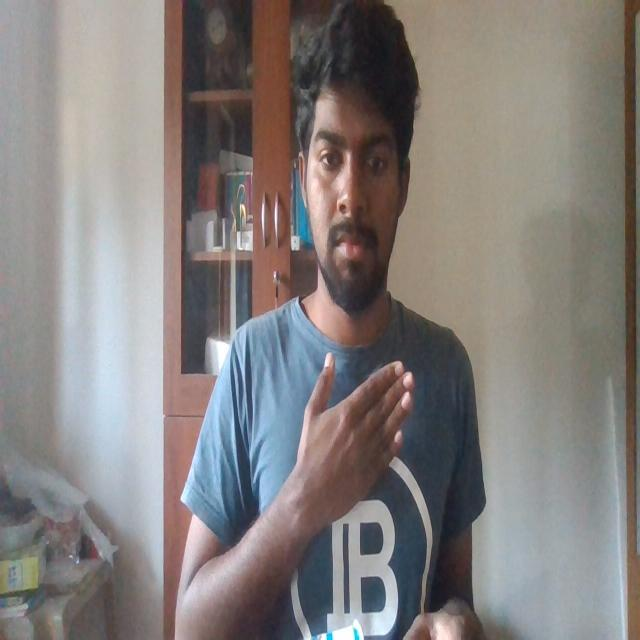Please: (293, 346, 421, 531)
